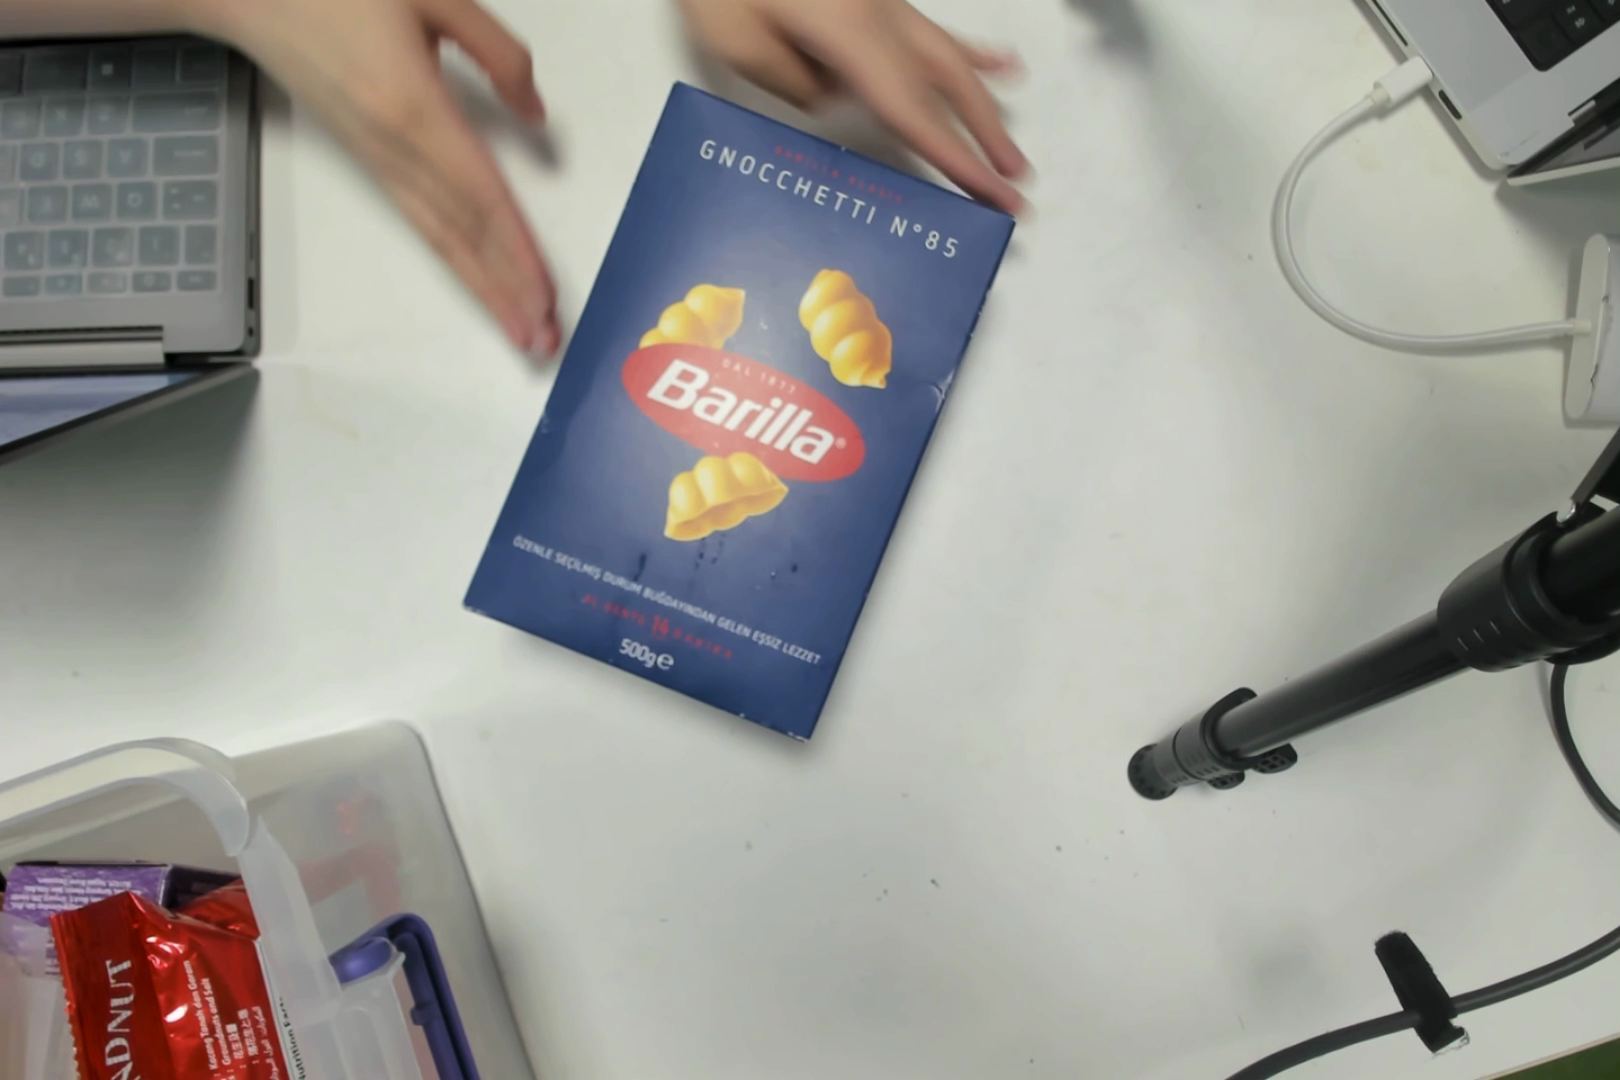Pasta_500-599g_NonHalal_NonHealthy: (563, 133, 953, 720)
